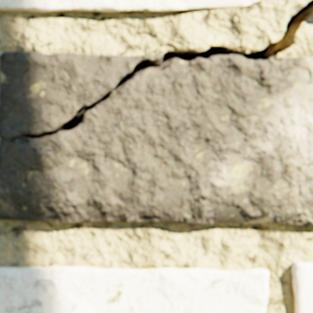brick: (0, 266, 267, 312), (0, 0, 257, 13), (291, 261, 312, 312)
broken_brick: (0, 55, 312, 223), (0, 52, 161, 137)
crack: (0, 0, 312, 142)
